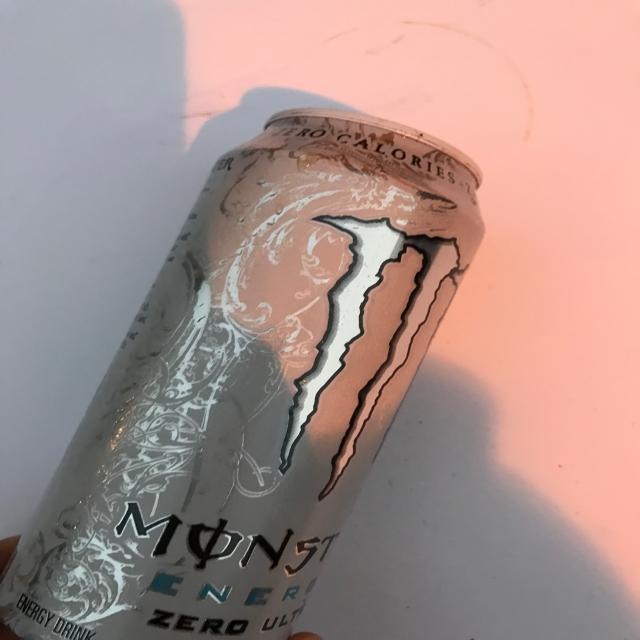metal: (5, 108, 487, 640)
